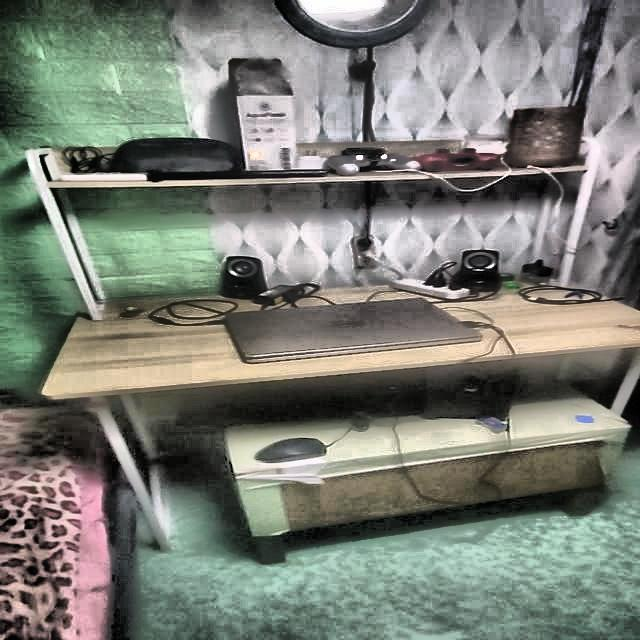mesa: (40, 272, 640, 560)
